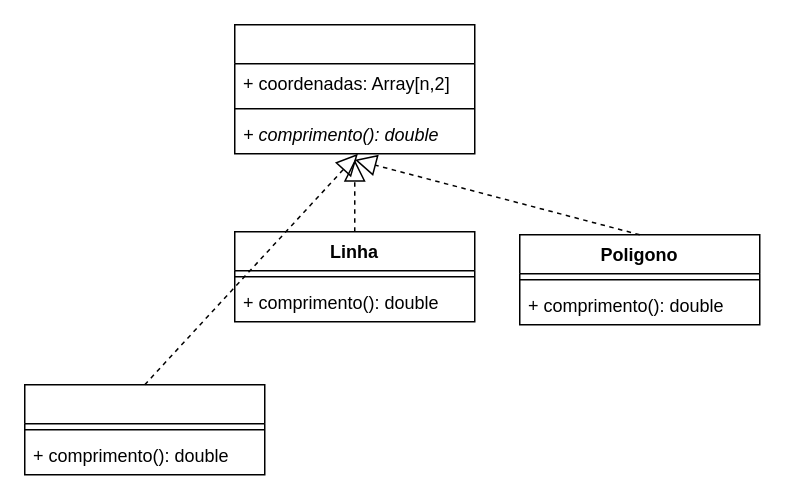
Image size: 785x500. Some labels were removed from this diagram. The shapes that lost their labels are listed below. From the top down, each one's box as (x1, y1, x2, y2) in pixels, then its label:
(233, 23, 475, 154): Geometria
(23, 383, 265, 475): Ponto
